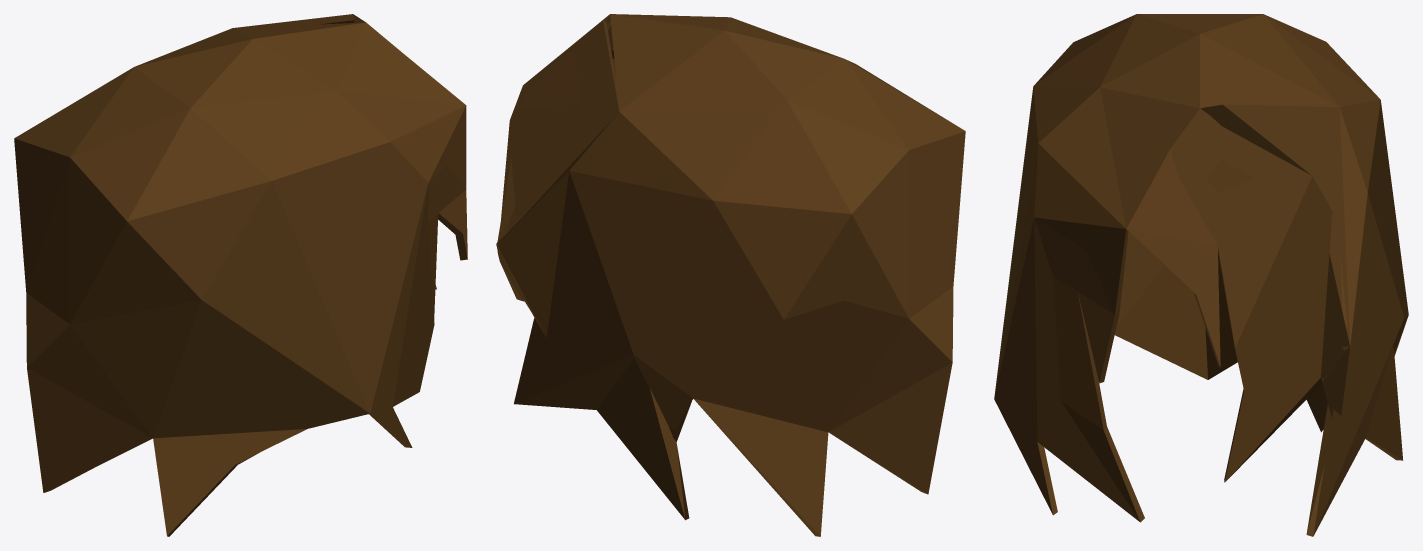
File: AngeloHair.glb
The picture shows the model from 3 angles, left to right: view 1: azimuth 30°, elevation 25°; view 2: azimuth 150°, elevation 25°; view 3: azimuth 270°, elevation 25°; orthographic projection. The views are drawn at different scales.
Visible parts, largest first — view 1: AngeloHair; view 2: AngeloHair; view 3: AngeloHair.
Part boxes in pixels (x1,y1,x2,y2): AngeloHair: (14, 14, 467, 536); AngeloHair: (496, 14, 965, 536); AngeloHair: (994, 14, 1408, 536).
Bounding box in the file's own units: 7.82 × 7.4 × 5.82.
